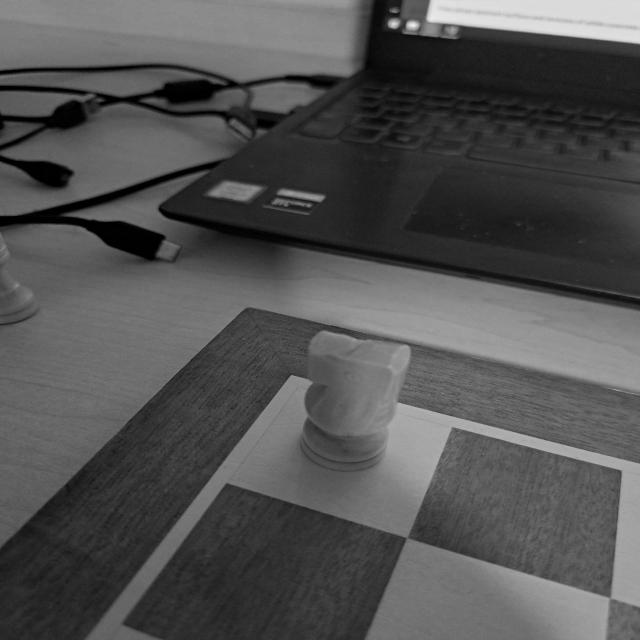chess-table-corners: (250, 362, 348, 416)
